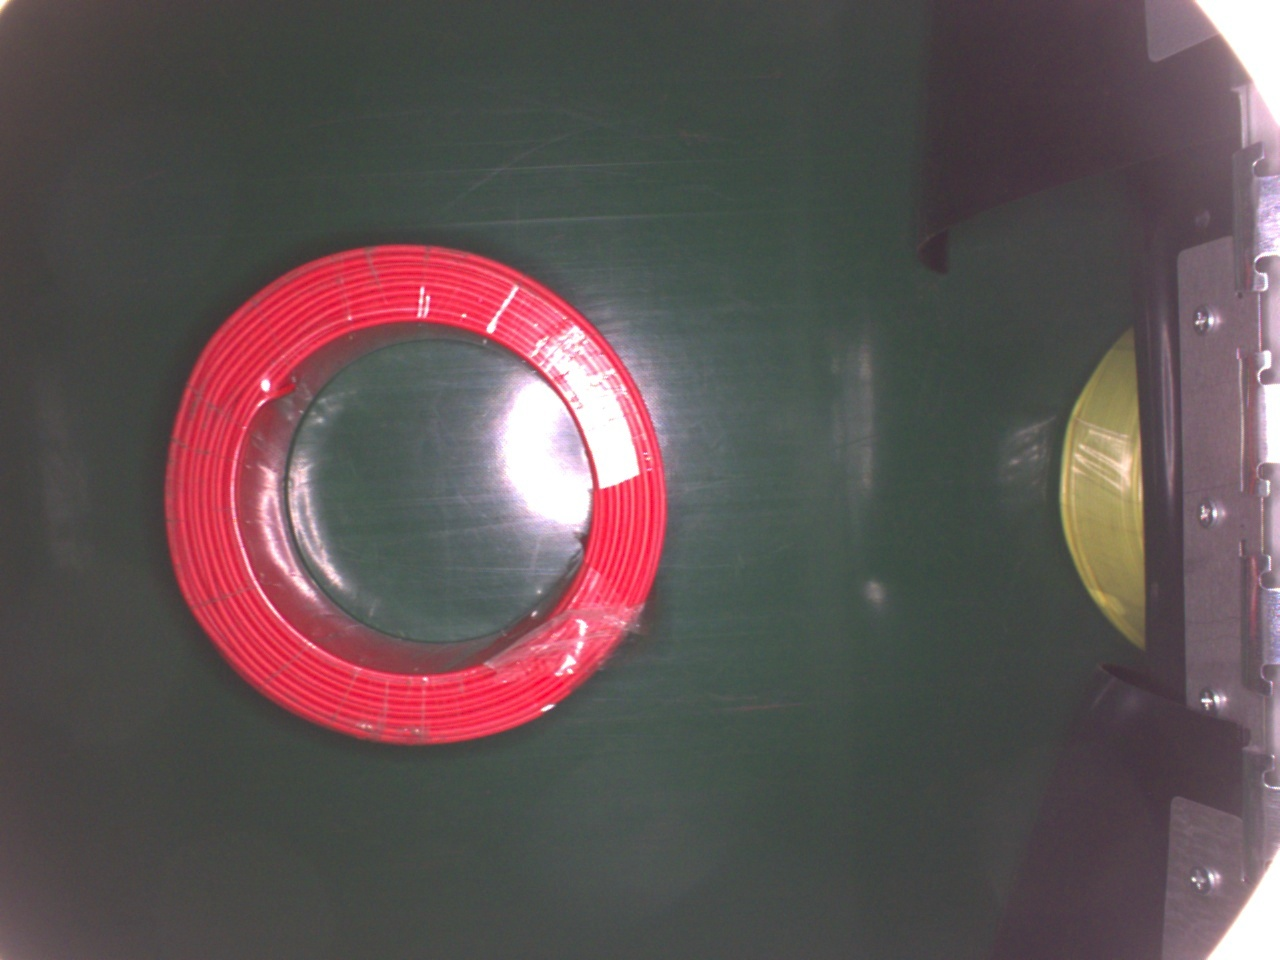red: (162, 242, 667, 748)
